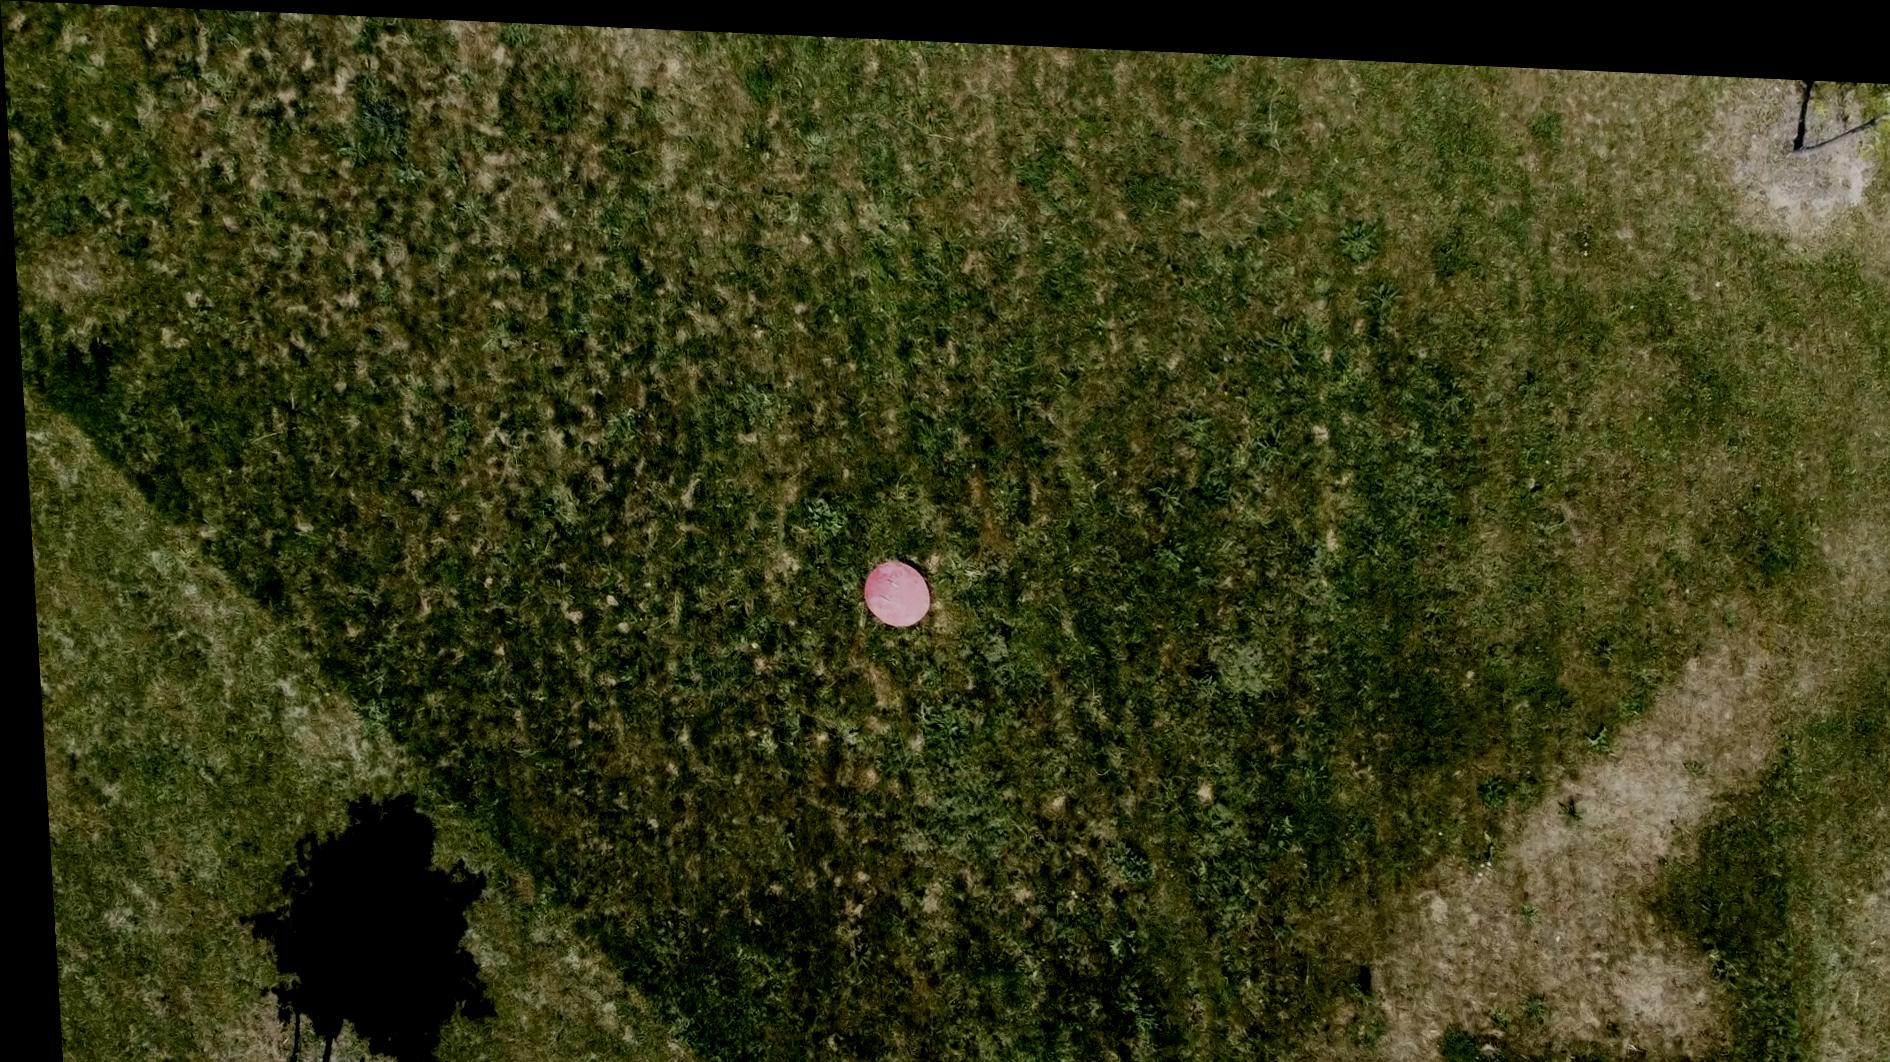Red: (853, 549, 928, 623)
